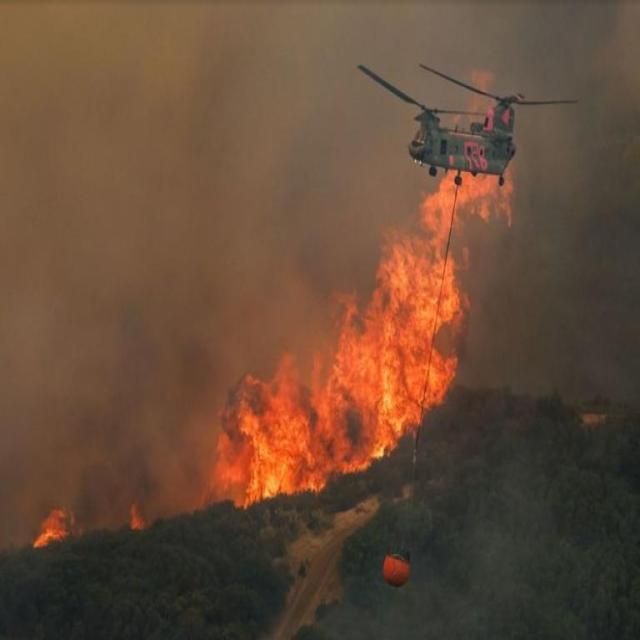Fire: (201, 164, 518, 517), (30, 505, 77, 554), (126, 500, 146, 532)
